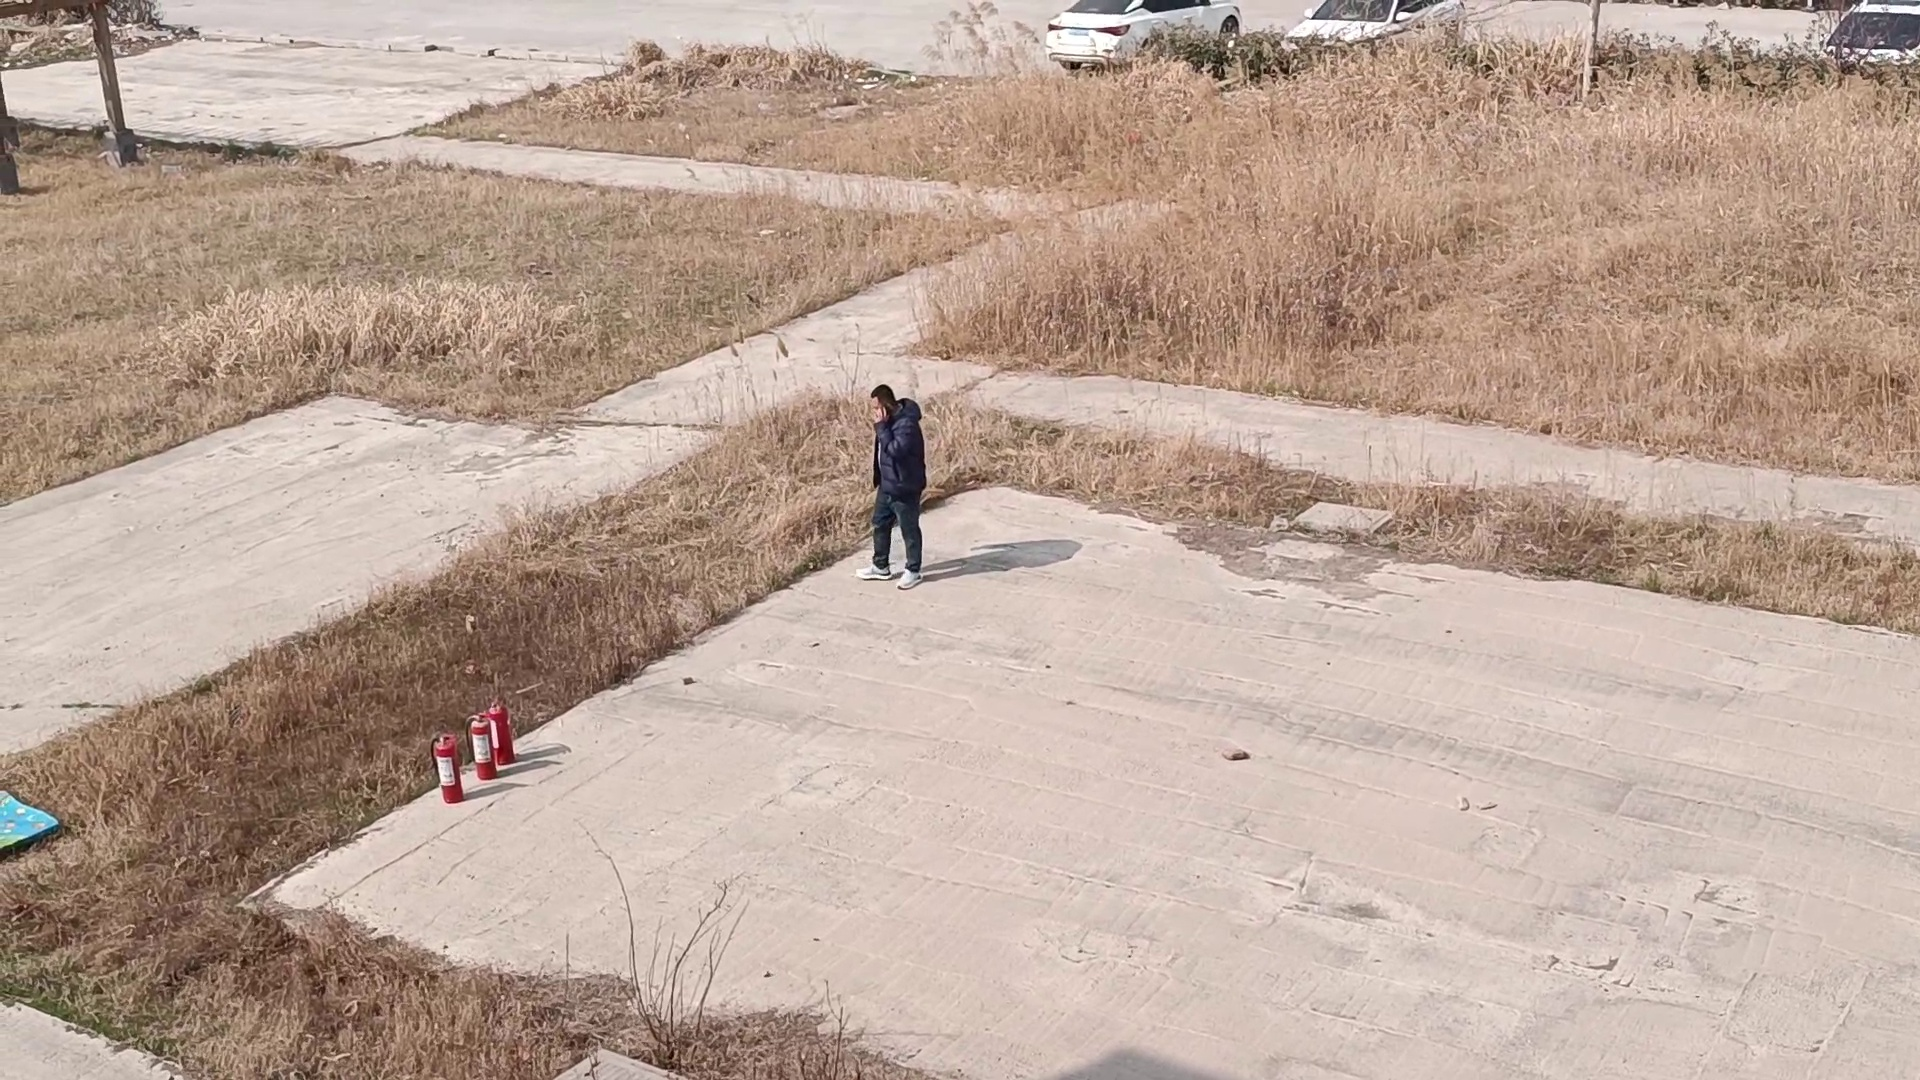phone: (870, 380, 907, 438)
